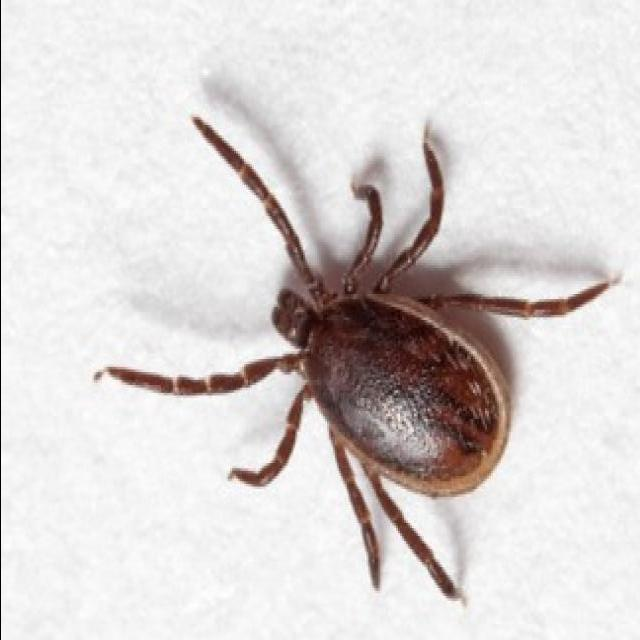Ixodes Ricinus-M: (93, 114, 610, 604)
